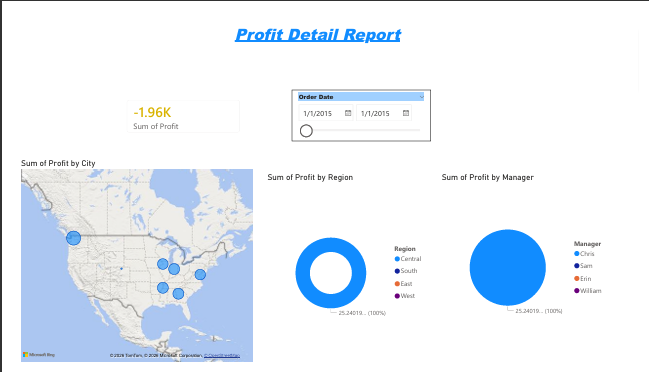

The page's visual inventory and layout, read from the dashboard file:
{"tool":"powerbi","page":{"name":"Profit","canvas":[1280,720],"ordinal":1},"visuals":[{"type":"pieChart","fields":{"Y":["Sum(Orders.Profit)"],"Category":["Users.Manager"]},"box":[871.7,326.7,356.7,371.7],"z":0},{"type":"donutChart","fields":{"Category":["Users.Region"],"Y":["Sum(Orders.Profit)"]},"box":[515,326.7,335,393.3],"z":1000},{"type":"map","fields":{"Category":["Orders.City"],"Size":["Sum(Orders.Profit)"]},"box":[10,298.3,485,421.7],"z":2000},{"type":"slicer","fields":{"Values":["Orders.Order Date"]},"box":[570,158.3,285,105],"z":3000},{"type":"cardVisual","fields":{"Data":["Sum(Orders.Profit)"]},"box":[215,161.7,265,100],"z":4000},{"type":"textbox","box":[448.3,15,470,70],"z":5000}]}

Visuals, with their boxes in screenshot pixels (x1, y1, x2, y2), scaled from the page's 1280x720 canvas onto the 649x372 screenshot:
pieChart - Sum(Orders.Profit) x Users.Manager: [left=442, top=169, right=623, bottom=361]
donutChart - Users.Region x Sum(Orders.Profit): [left=261, top=169, right=431, bottom=371]
map - Orders.City x Sum(Orders.Profit): [left=5, top=154, right=251, bottom=371]
slicer - Orders.Order Date: [left=289, top=82, right=434, bottom=136]
cardVisual - Sum(Orders.Profit): [left=109, top=84, right=243, bottom=135]
textbox: [left=227, top=8, right=466, bottom=44]
